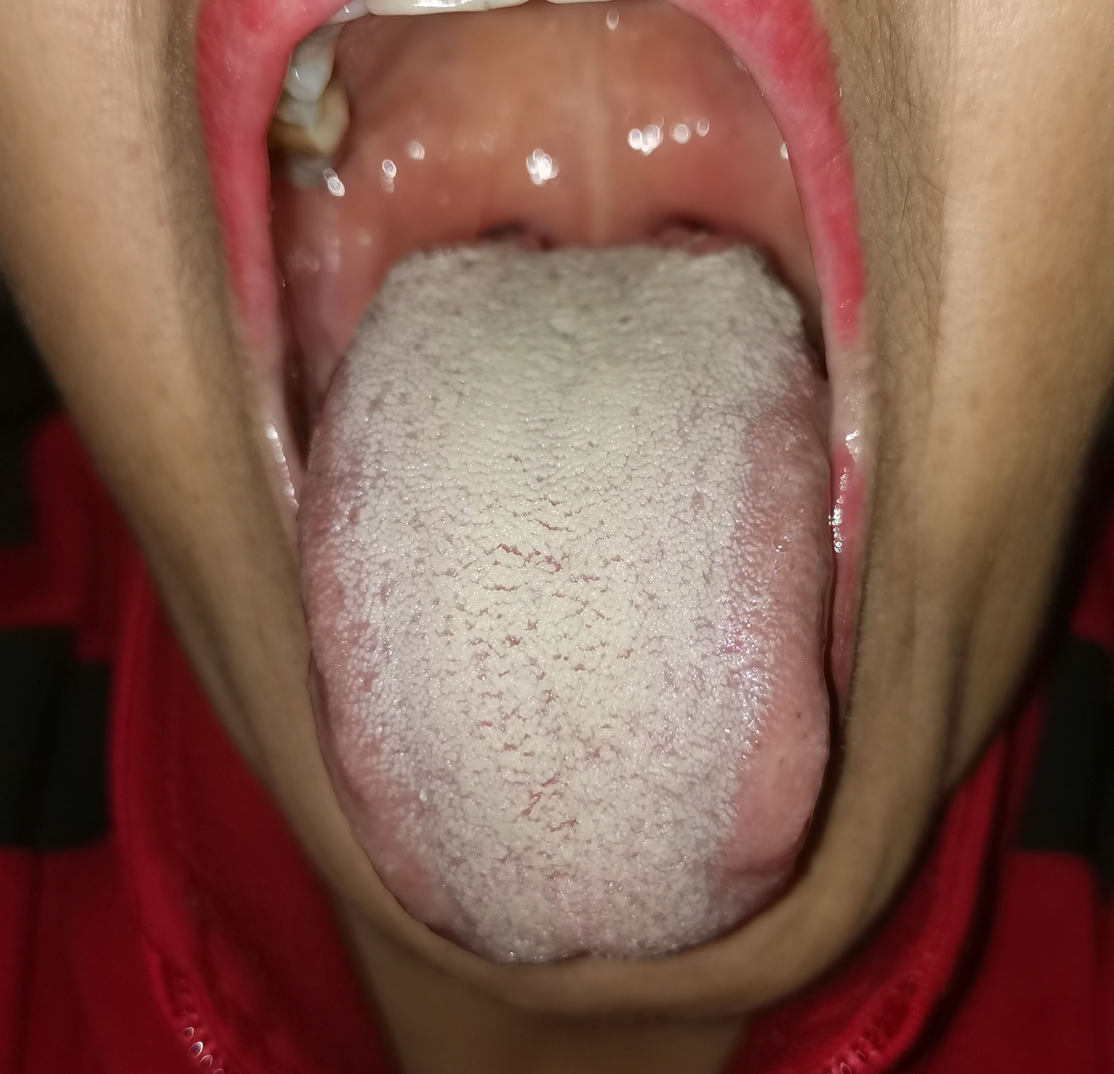baitaishe: (296, 226, 830, 961)
chihenshe: (299, 597, 463, 946)
